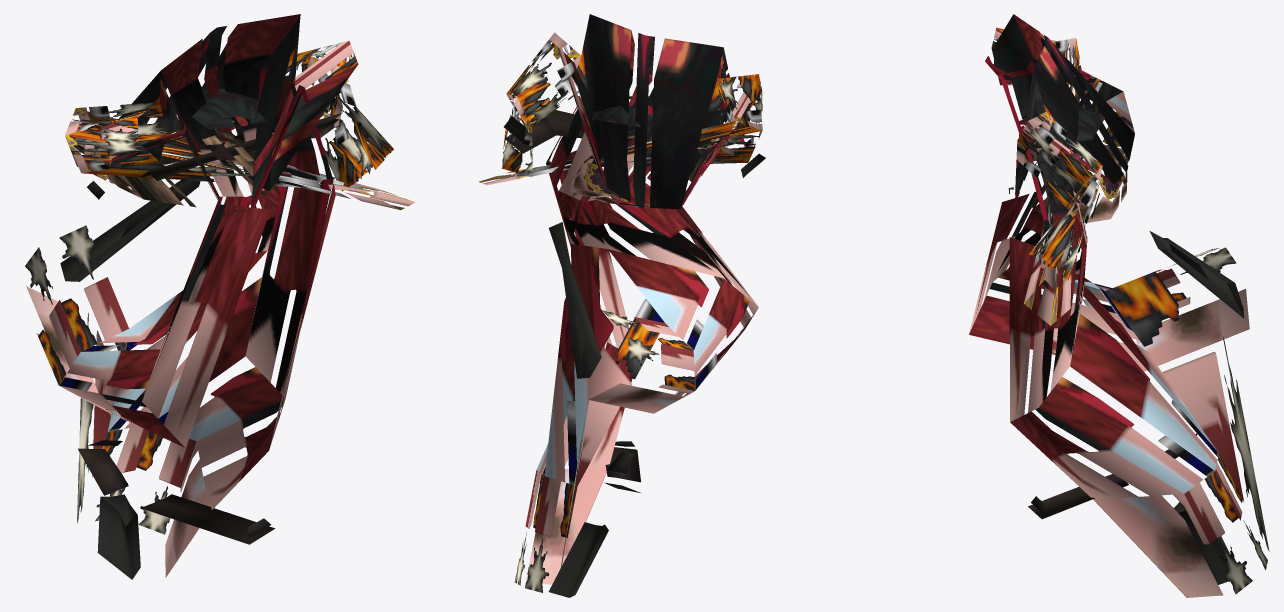
3 renders of one model, left to right at view 1: azimuth 30°, elevation 25°; view 2: azimuth 150°, elevation 25°; view 3: azimuth 270°, elevation 25°, orthographic. The views are drawn at different scales.
Visible parts, largest first — view 1: T1L6M006_10; view 2: T1L6M006_10; view 3: T1L6M006_10.
Boxes of the visible parts, x1,y1,x2,y2 form: T1L6M006_10: (25, 14, 415, 579); T1L6M006_10: (478, 14, 765, 597); T1L6M006_10: (969, 14, 1269, 597).
Bounding box in the file's own units: 0.7009 × 1.14 × 0.829.
